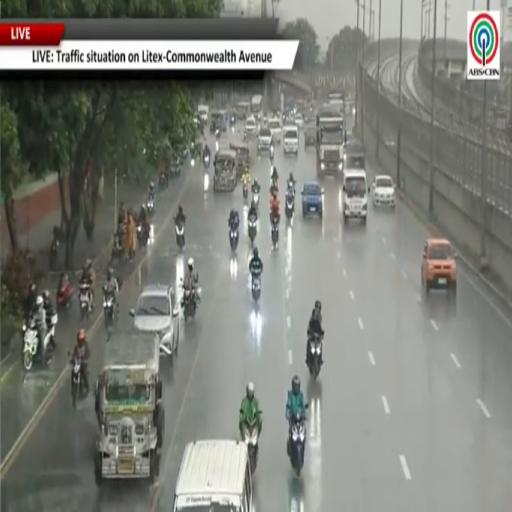bus: (327, 90, 345, 111)
car: (130, 284, 179, 363), (421, 238, 456, 293), (301, 182, 323, 217), (373, 175, 395, 206), (258, 126, 272, 152), (269, 117, 281, 143), (304, 125, 317, 149), (245, 117, 257, 136), (294, 114, 303, 129)
jeepney: (95, 330, 164, 485), (214, 150, 236, 191), (230, 143, 250, 178), (210, 110, 229, 133), (236, 102, 250, 120)
motorcycle: (288, 412, 306, 476), (70, 358, 88, 408), (243, 415, 258, 474), (23, 318, 38, 371), (307, 335, 322, 379), (182, 287, 200, 321), (103, 290, 116, 330), (56, 280, 73, 310), (79, 283, 92, 319), (136, 221, 151, 247), (111, 233, 124, 260), (49, 238, 59, 270), (285, 192, 294, 220), (176, 222, 185, 249), (248, 217, 257, 244), (271, 216, 278, 249), (230, 226, 239, 251), (252, 275, 260, 302), (146, 196, 156, 216), (269, 179, 279, 195), (159, 172, 167, 190), (252, 192, 260, 209), (203, 154, 210, 168), (243, 183, 248, 200), (270, 144, 274, 162), (215, 128, 221, 139), (243, 132, 248, 142)
truck: (316, 106, 346, 175), (327, 90, 345, 111), (250, 94, 263, 120)
